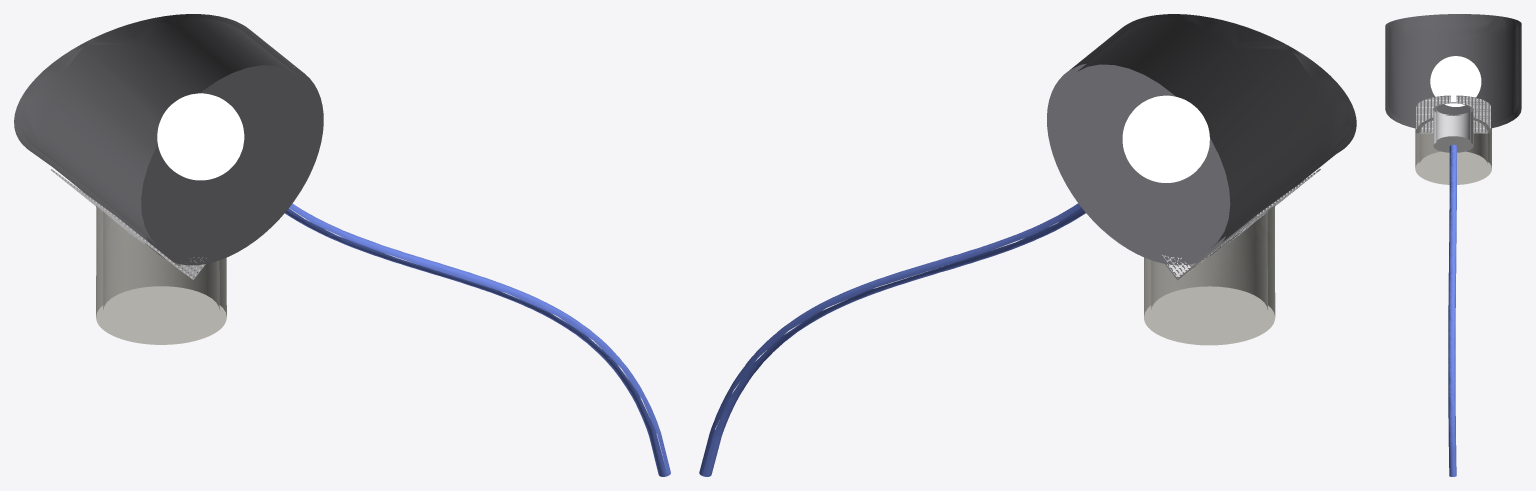
Rendered from lampe-optimisee.glb.
3 views of the same model, side by side, from view 1: azimuth 30°, elevation 25°; view 2: azimuth 150°, elevation 25°; view 3: azimuth 270°, elevation 25° (orthographic). The views are drawn at different scales.
Parts seen in each view (by area): view 1: Shade, Base, Cable, Bulb; view 2: Shade, Base, Cable, Bulb; view 3: Shade, Base, Cable, Bulb, Socket, Connector_square, Connector_round, Connector.
Part boxes in pixels (left/top/right/bottom): Shade: left=14, top=14, right=323, bottom=265; Base: left=96, top=205, right=226, bottom=344; Cable: left=285, top=203, right=670, bottom=476; Bulb: left=157, top=93, right=244, bottom=180; Shade: left=1047, top=14, right=1356, bottom=265; Base: left=1144, top=205, right=1275, bottom=345; Cable: left=699, top=203, right=1085, bottom=476; Bulb: left=1122, top=95, right=1209, bottom=182; Shade: left=1385, top=14, right=1521, bottom=128; Base: left=1415, top=114, right=1491, bottom=184; Cable: left=1448, top=144, right=1457, bottom=476; Bulb: left=1430, top=56, right=1481, bottom=106; Socket: left=1433, top=102, right=1473, bottom=152; Connector_square: left=1416, top=95, right=1490, bottom=133; Connector_round: left=1416, top=95, right=1490, bottom=133; Connector: left=1416, top=95, right=1490, bottom=133.
Size of the model in its own units: 0.509 by 0.4163 by 0.16.
